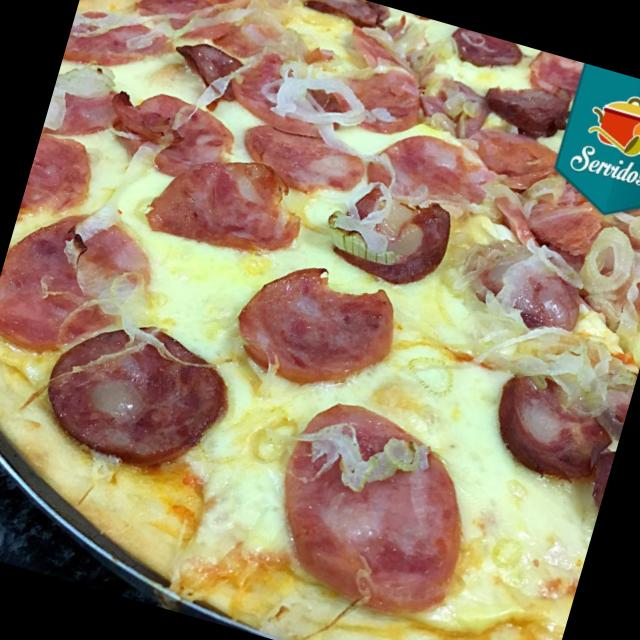pepperoni: (254, 390, 490, 627), (36, 298, 240, 487), (0, 190, 163, 388), (225, 244, 406, 402), (483, 348, 628, 486), (152, 142, 308, 260), (223, 96, 378, 210), (102, 82, 238, 186), (328, 179, 454, 291), (361, 112, 492, 218), (459, 233, 584, 333), (224, 44, 350, 140), (484, 162, 604, 260), (65, 0, 180, 85), (328, 46, 431, 140), (18, 129, 98, 231), (474, 75, 574, 154), (44, 58, 125, 146), (128, 0, 226, 50), (447, 27, 524, 78), (522, 48, 585, 108), (291, 0, 388, 38), (194, 0, 304, 28)
